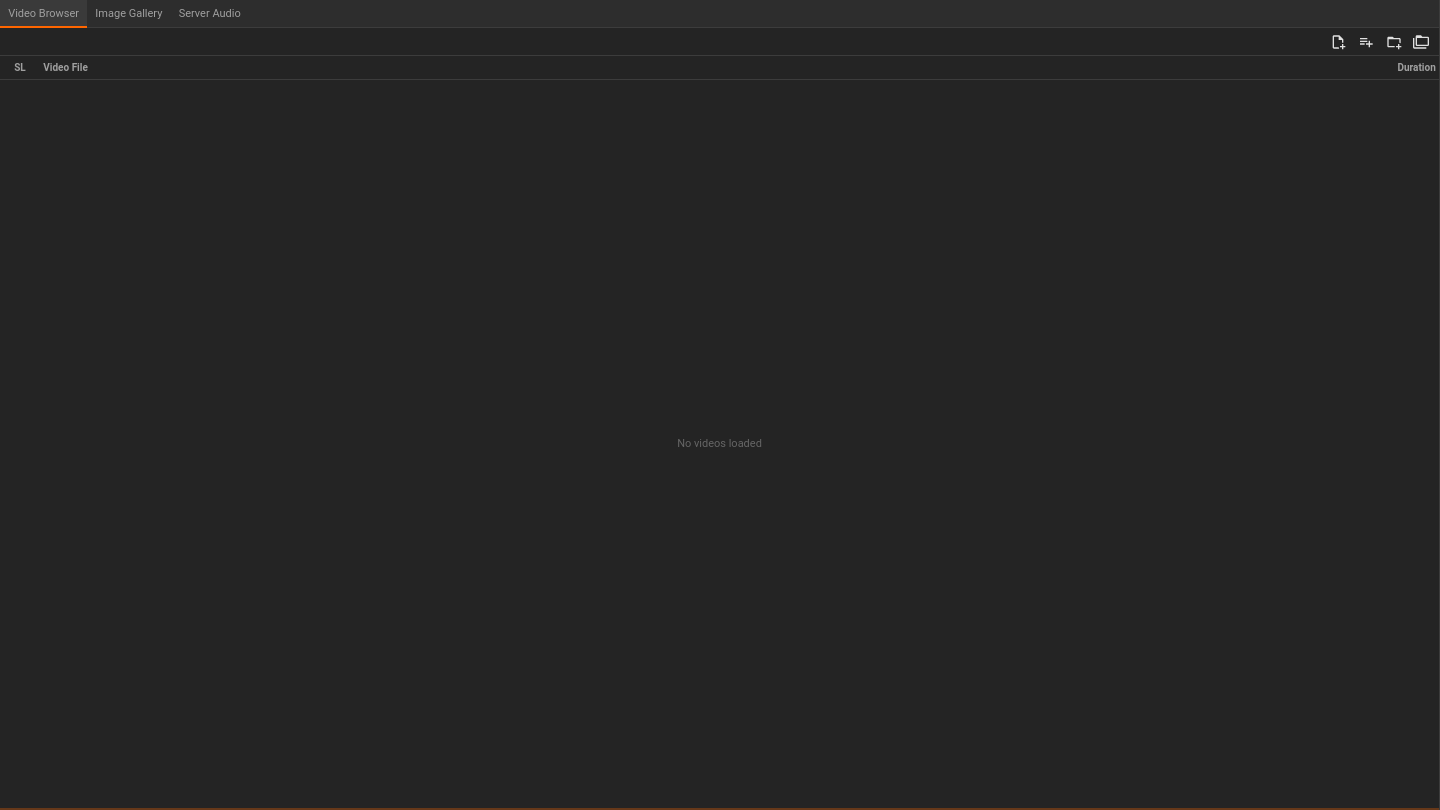
Test: Phase 16 — Left Tab Panel › Image Gallery tab › displays folder tree when folders exist
Click the tab with test id "tab-trigger-image". click: (129, 14)
box: [87,0,170,28]
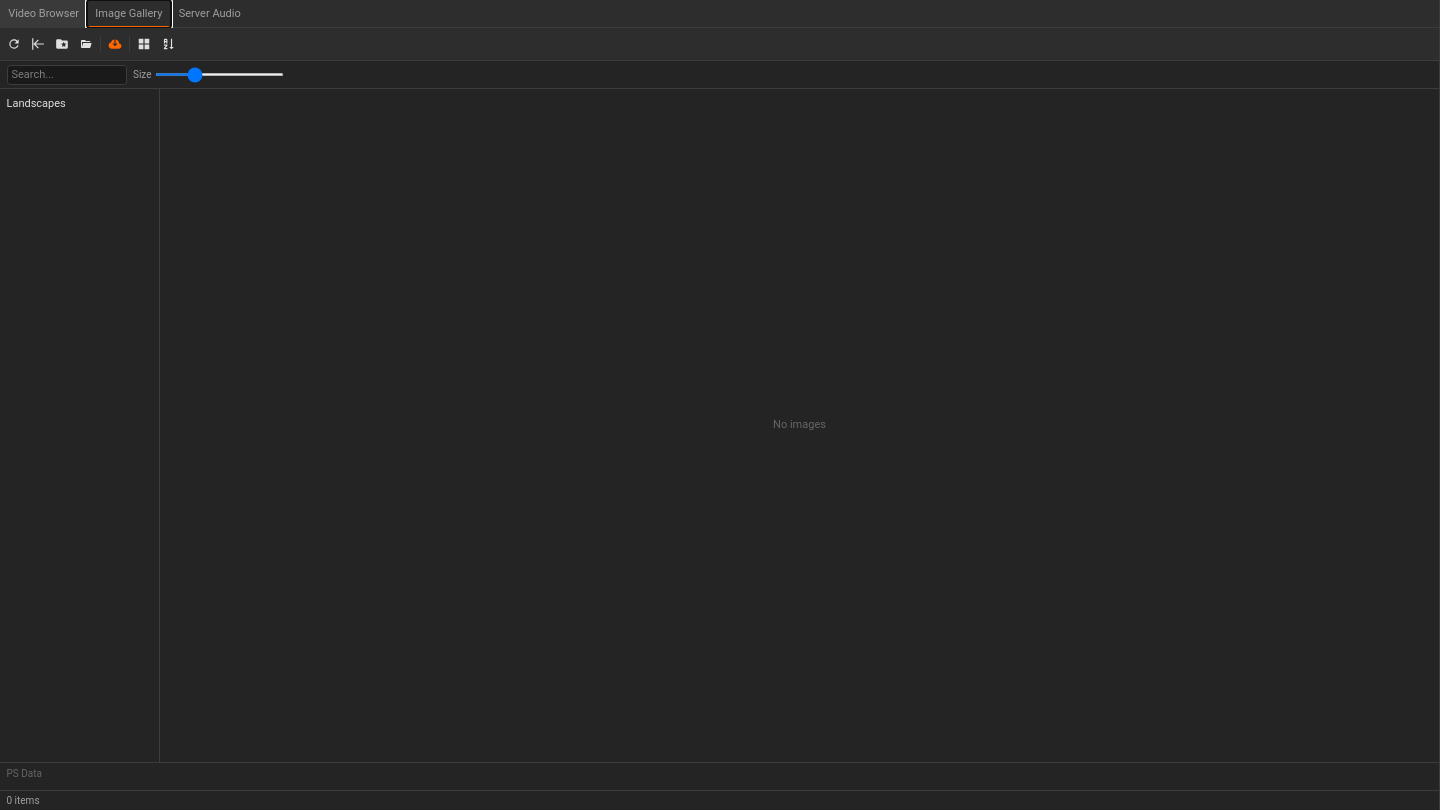
Result: the text "Landscapes" is shown at [6,96,66,110]
